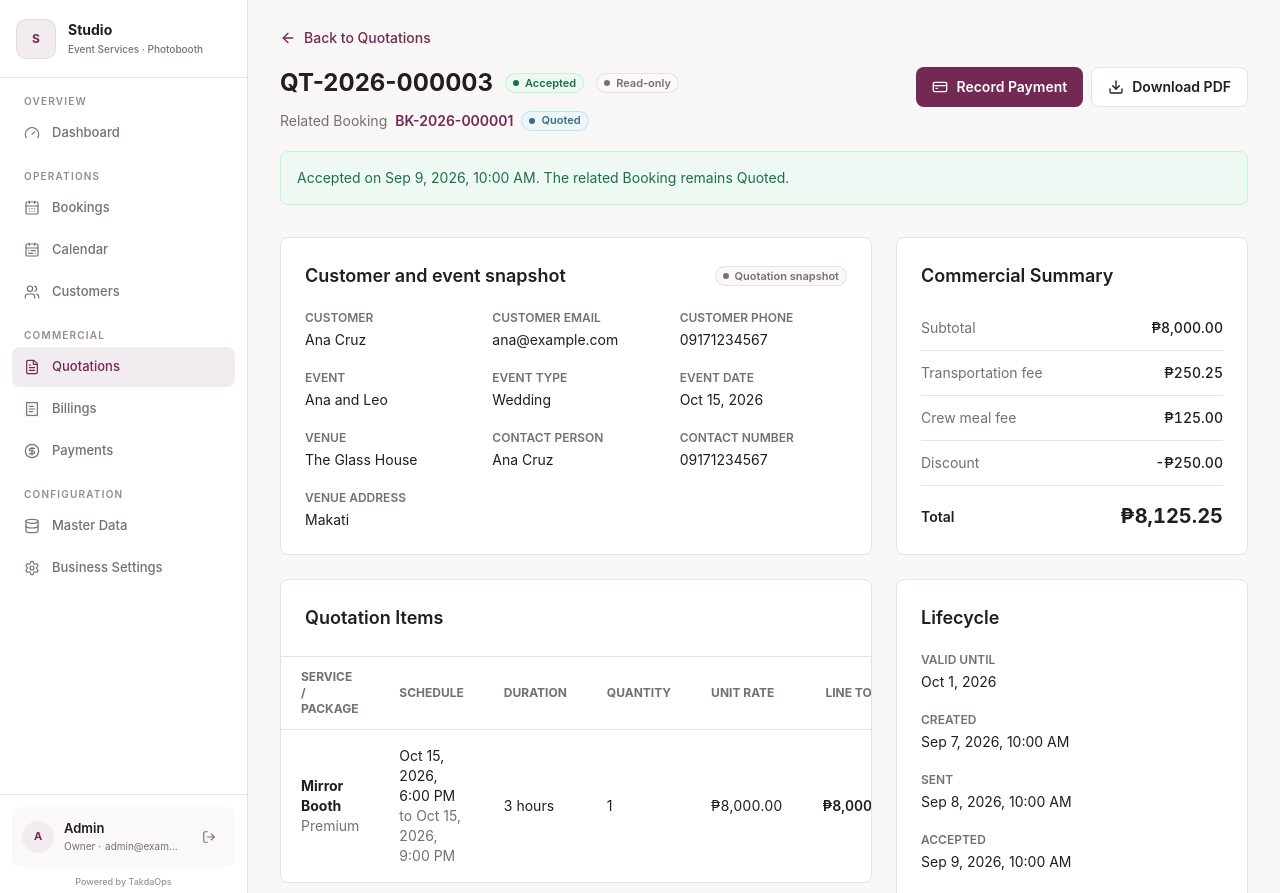
Test: Record Payment surfaces backend validation errors
Step 1. Click the button "Record Payment" → x=1000, y=87, box [916,67,1083,107]
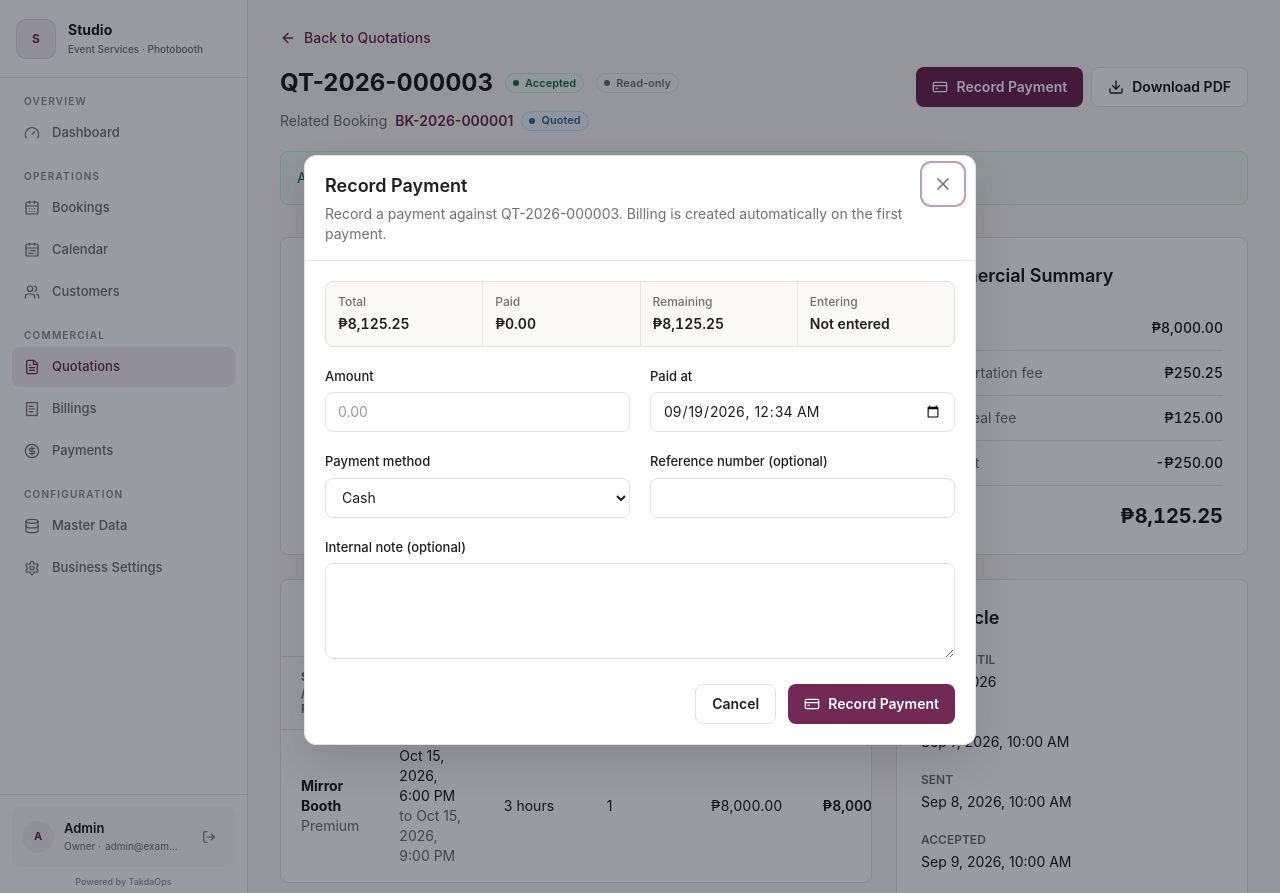
Step 2. Type "1000.00" into the field labelled "Amount" → x=478, y=412, box [325,392,630,432]
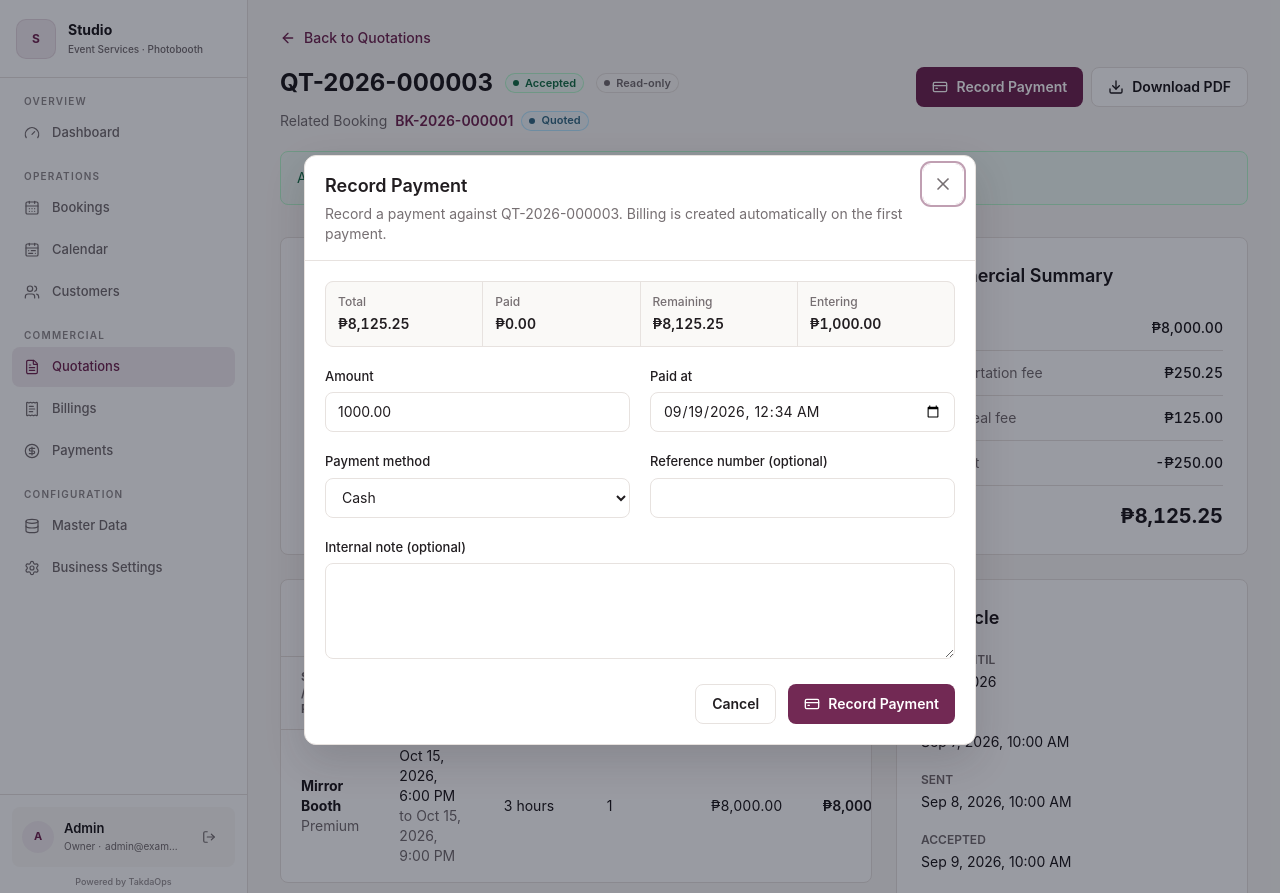
Step 3. Click the button "Record Payment" → x=872, y=704, box [788,684,955,724]
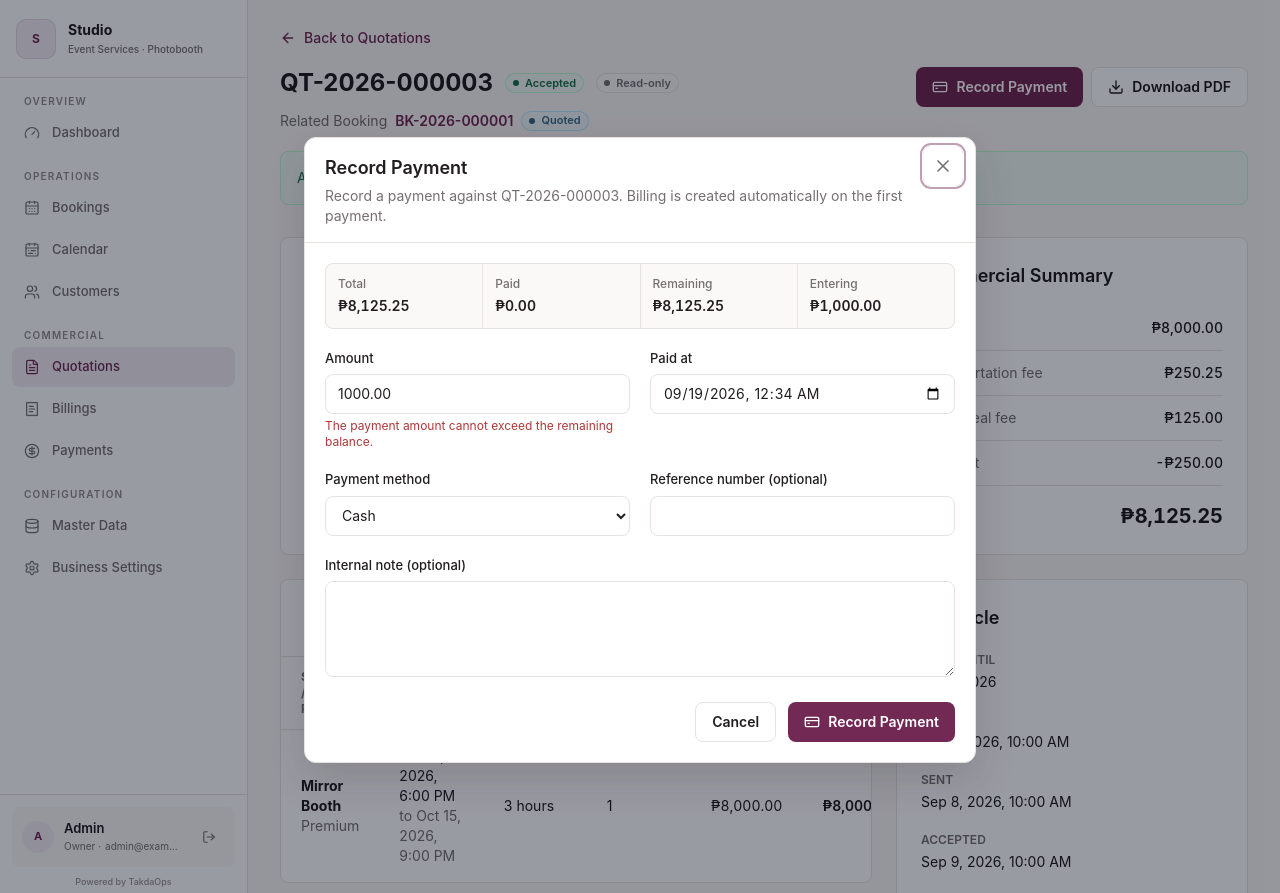
Now the text "The payment amount cannot exceed the remaining balance." is shown, box [325,418,630,450]
